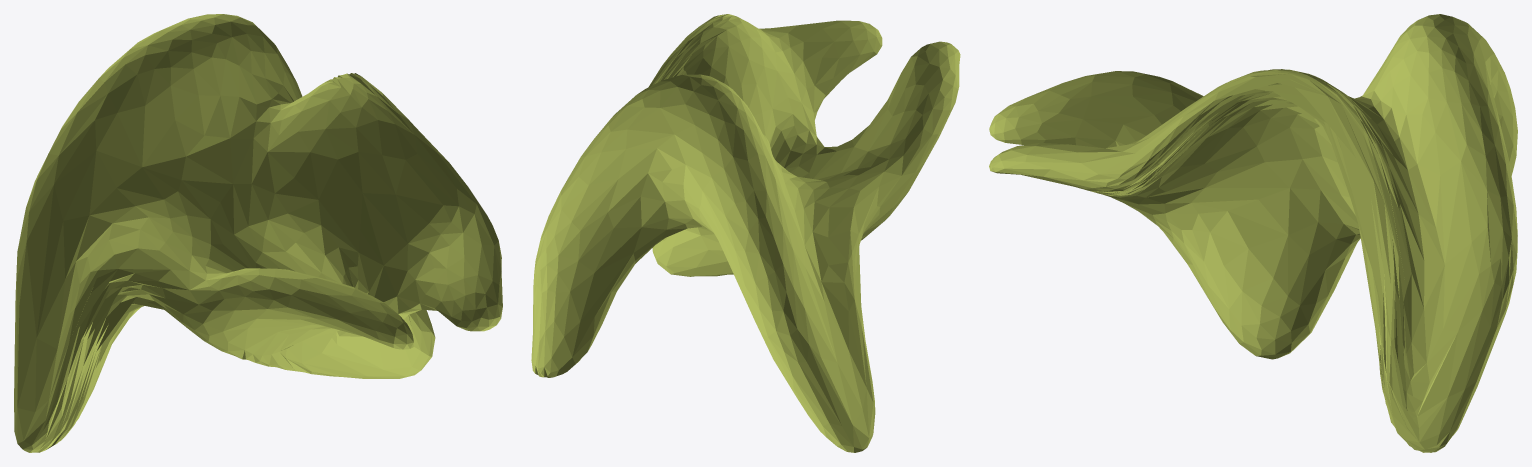
3 renders of one model, left to right at view 1: azimuth 30°, elevation 25°; view 2: azimuth 150°, elevation 25°; view 3: azimuth 270°, elevation 25°, orthographic. The views are drawn at different scales.
Parts seen in each view (by area): view 1: 7E6E6754-4CCD-412F-9B98-24E9B9F811CF; view 2: 7E6E6754-4CCD-412F-9B98-24E9B9F811CF; view 3: 7E6E6754-4CCD-412F-9B98-24E9B9F811CF.
Part boxes in pixels (left/top/right/bottom): 7E6E6754-4CCD-412F-9B98-24E9B9F811CF: left=14, top=14, right=502, bottom=452; 7E6E6754-4CCD-412F-9B98-24E9B9F811CF: left=531, top=14, right=960, bottom=452; 7E6E6754-4CCD-412F-9B98-24E9B9F811CF: left=989, top=14, right=1517, bottom=452.
Bounding box in the file's own units: 3.01 × 2.96 × 4.03.
